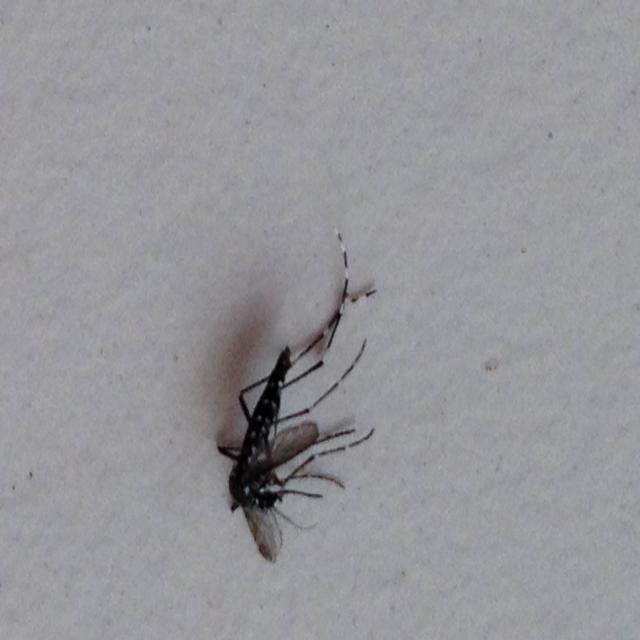albopictus: (196, 213, 379, 569)
